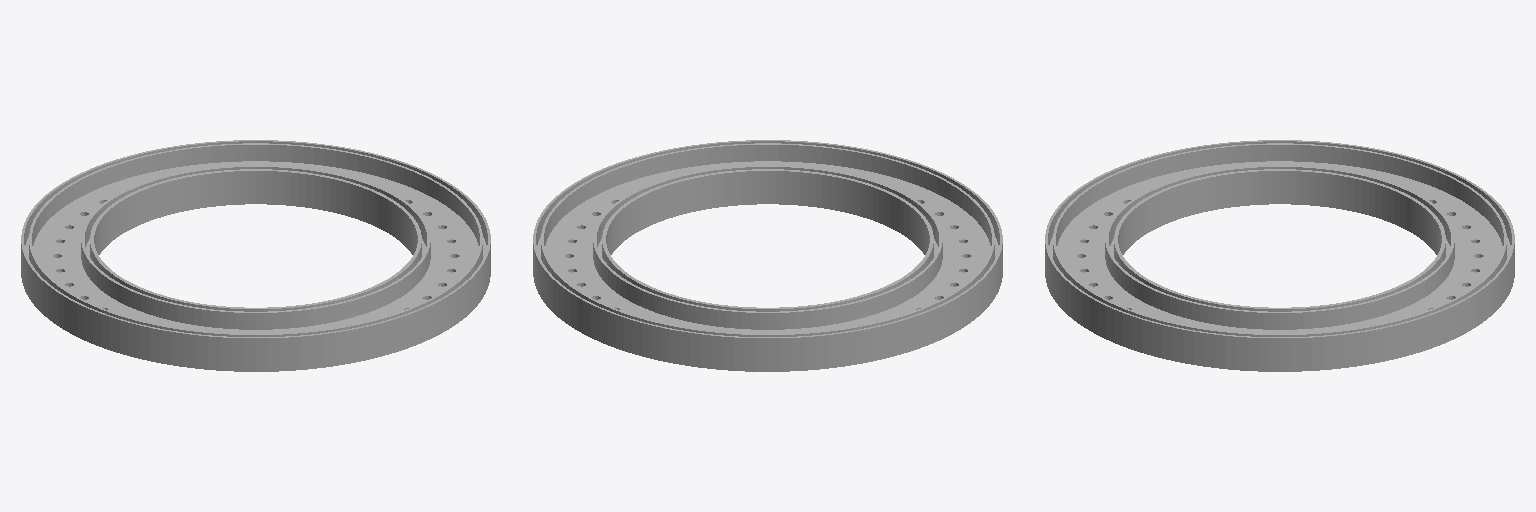
The model's file is PethFormaFlanecBtt.obj.
The picture shows the model from 3 angles: view 1: azimuth 30°, elevation 25°; view 2: azimuth 150°, elevation 25°; view 3: azimuth 270°, elevation 25°; orthographic projection.
Visible parts, largest first — view 1: sdfsdf; view 2: sdfsdf; view 3: sdfsdf.
Part boxes in pixels (bbox=[...]): sdfsdf: bbox=[21, 140, 490, 371]; sdfsdf: bbox=[533, 140, 1002, 371]; sdfsdf: bbox=[1045, 140, 1514, 371].
Bounding box in the file's own units: 203 × 16 × 203.